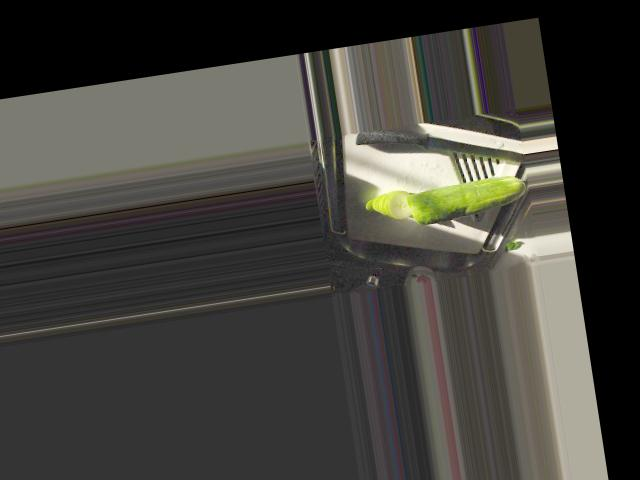cucumber: (404, 172, 528, 226)
